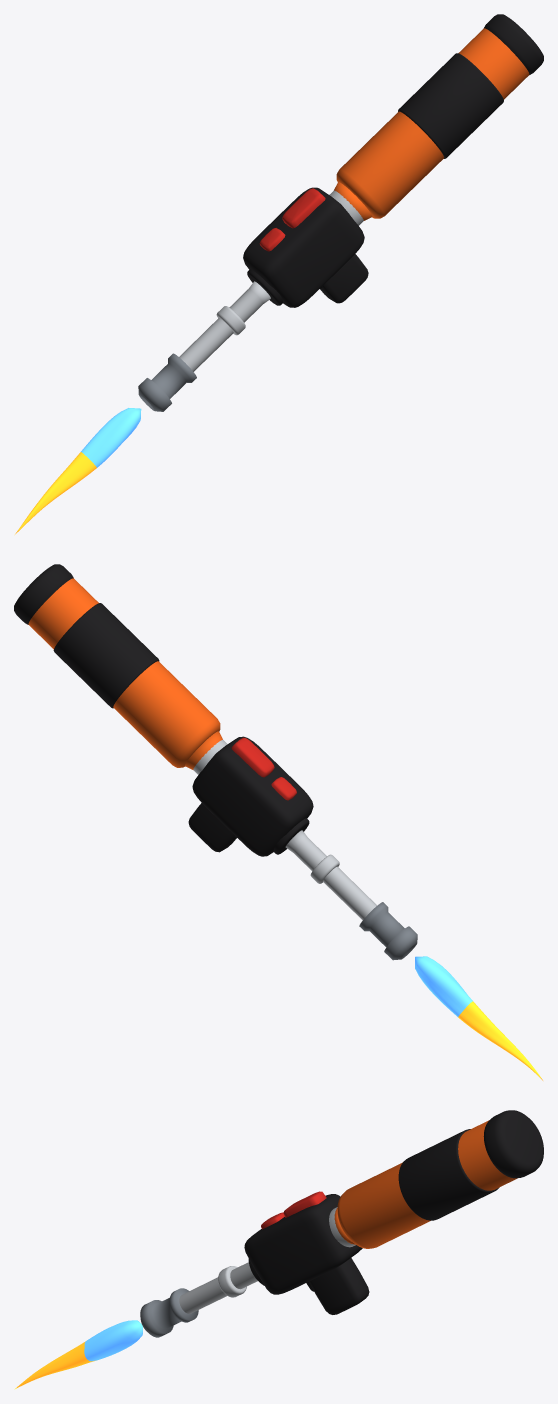
File: macarico-mao.glb
The picture shows the model from 3 angles, top to bottom: view 1: azimuth 30°, elevation 25°; view 2: azimuth 150°, elevation 25°; view 3: azimuth 330°, elevation 25°; orthographic projection.
Visible parts, largest first — view 1: maca_cabeca, maca_cartucho, chama, maca_aco, maca_queimador, maca_trava; view 2: maca_cabeca, maca_cartucho, chama, maca_aco, maca_queimador, maca_trava; view 3: maca_cabeca, maca_cartucho, chama, maca_aco, maca_queimador, maca_trava.
Boxes of the visible parts, bbox=[...] form: maca_cabeca: bbox=[243, 14, 543, 307]; maca_cartucho: bbox=[334, 28, 529, 220]; chama: bbox=[15, 408, 141, 534]; maca_aco: bbox=[179, 190, 363, 371]; maca_queimador: bbox=[138, 353, 196, 411]; maca_trava: bbox=[259, 188, 325, 251]; maca_cabeca: bbox=[14, 564, 313, 856]; maca_cartucho: bbox=[28, 578, 222, 769]; chama: bbox=[415, 956, 542, 1080]; maca_aco: bbox=[193, 739, 376, 920]; maca_queimador: bbox=[359, 902, 417, 960]; maca_trava: bbox=[231, 737, 296, 800]; maca_cabeca: bbox=[244, 1110, 543, 1314]; maca_cartucho: bbox=[334, 1120, 517, 1248]; chama: bbox=[14, 1320, 142, 1389]; maca_aco: bbox=[179, 1207, 355, 1313]; maca_queimador: bbox=[140, 1288, 198, 1337]; maca_trava: bbox=[261, 1191, 326, 1229].
Size of the model in its own units: 0.2603 by 0.1884 by 0.0294.
